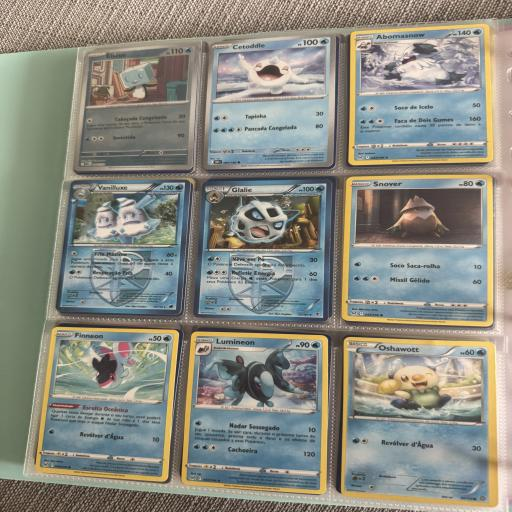card: (340, 337, 502, 507), (181, 327, 336, 494), (341, 169, 499, 327), (35, 319, 179, 482), (340, 23, 497, 170), (193, 175, 334, 322), (55, 175, 190, 315), (203, 30, 336, 172), (73, 41, 199, 173)
